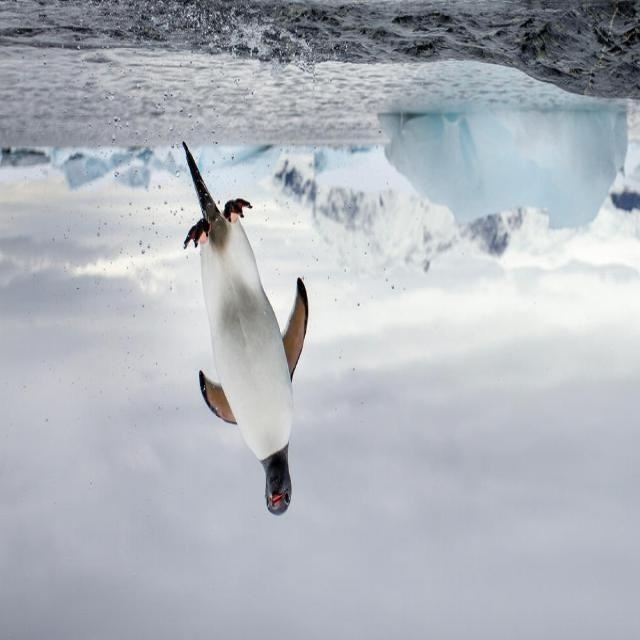penguin: (180, 142, 308, 515)
